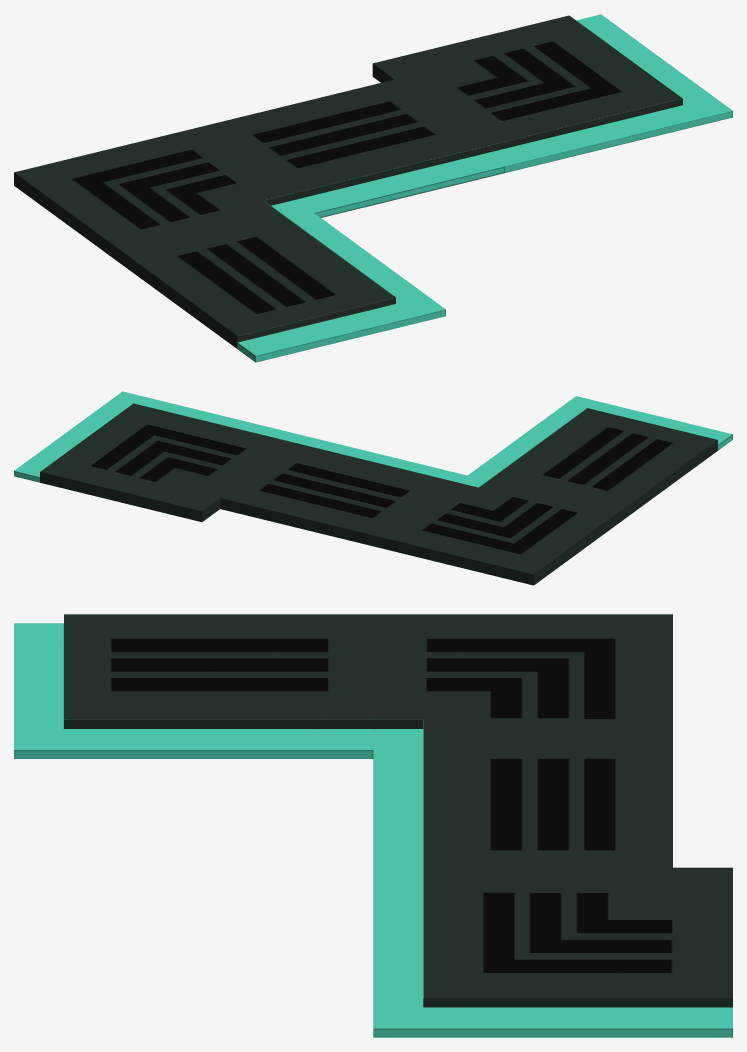
The model's file is SideFloor.fbx.
3 views of the same model, one above another, from view 1: azimuth 30°, elevation 25°; view 2: azimuth 150°, elevation 25°; view 3: azimuth 270°, elevation 25° (orthographic). The views are drawn at different scales.
Parts seen in each view (by area): view 1: SideFloorOuterCorner, SideFloorEnd, SideFloor, SideFloorCorner; view 2: SideFloorOuterCorner, SideFloorEnd, SideFloorCorner, SideFloor; view 3: SideFloorOuterCorner, SideFloorEnd, SideFloorCorner, SideFloor.
Part boxes in pixels (box(x1,y1,x2,y2)): SideFloorOuterCorner: box(372, 14, 732, 172); SideFloorEnd: box(124, 213, 445, 362); SideFloor: box(205, 79, 504, 217); SideFloorCorner: box(14, 126, 313, 265); SideFloorOuterCorner: box(14, 391, 310, 521); SideFloorEnd: box(468, 396, 732, 518); SideFloorCorner: box(377, 475, 624, 585); SideFloor: box(220, 437, 467, 547); SideFloorOuterCorner: box(373, 867, 732, 1037); SideFloorEnd: box(14, 614, 373, 758); SideFloorCorner: box(373, 614, 672, 749); SideFloor: box(373, 741, 672, 876).
Size of the model in its own units: 480 by 10 by 360.
